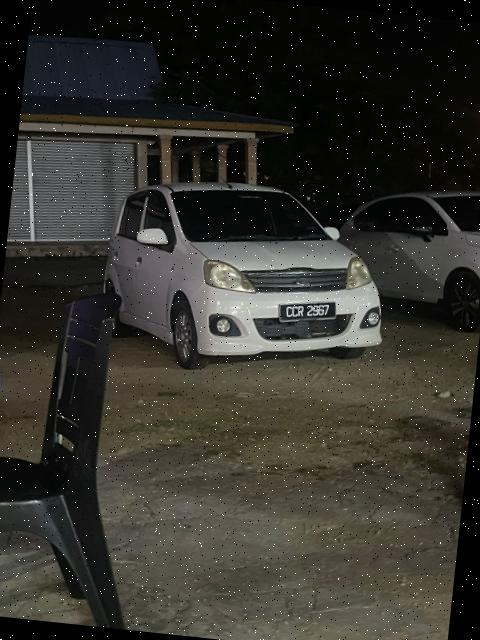License_Plate: (277, 295, 333, 333)
car: (109, 162, 404, 388)
